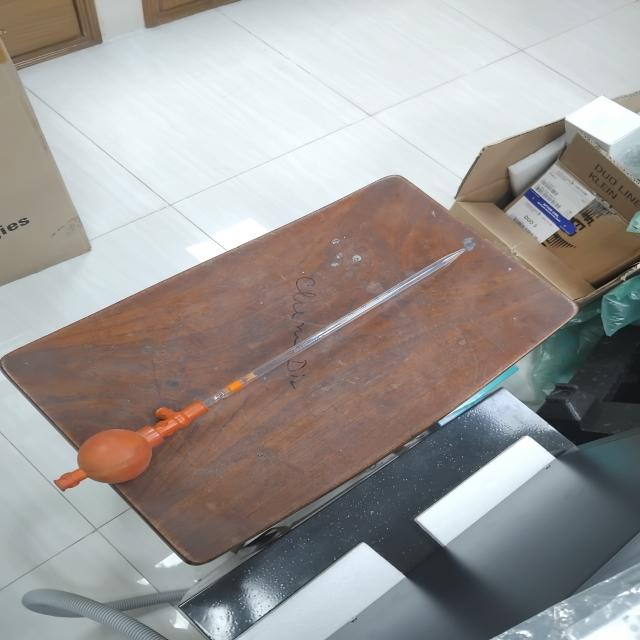Volumetric_Pipet: (27, 229, 502, 506)
